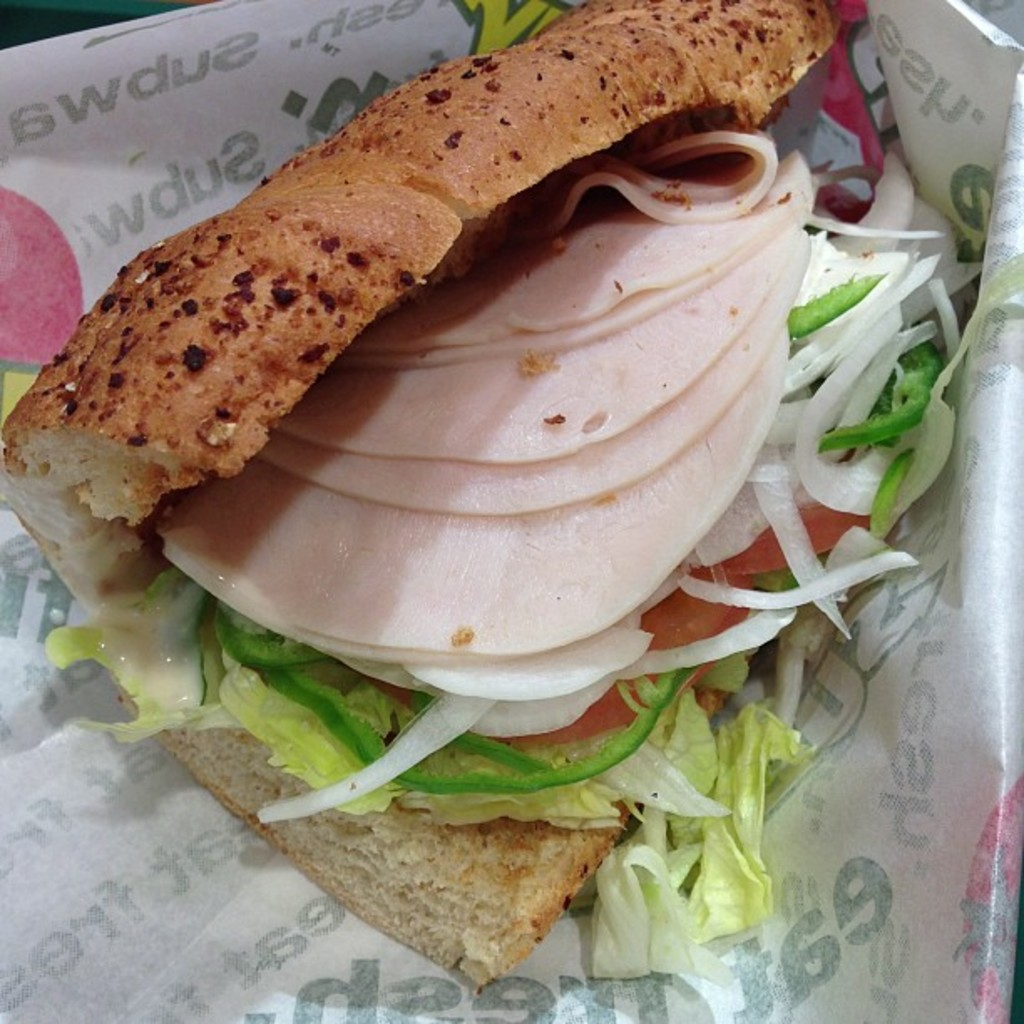sandwich: (0, 0, 975, 996)
